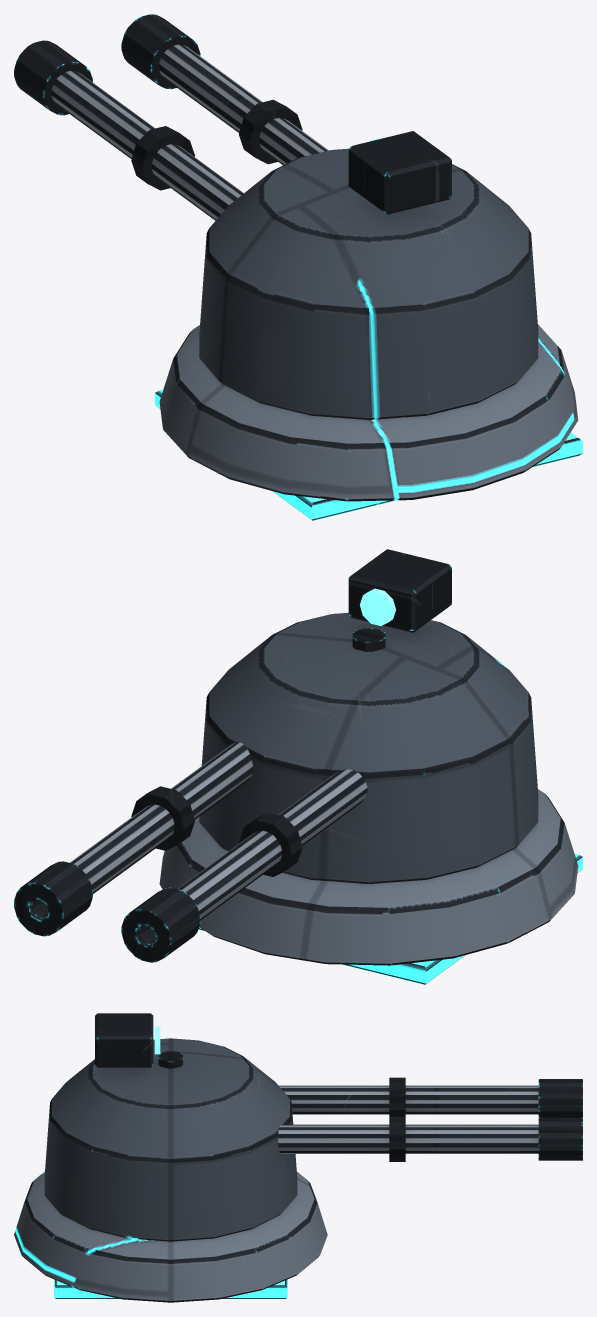
The model's file is torreta_auto_t3.fbx.
3 renders of one model, top to bottom at view 1: azimuth 30°, elevation 25°; view 2: azimuth 150°, elevation 25°; view 3: azimuth 270°, elevation 25°, orthographic. The views are drawn at different scales.
Visible parts, largest first — view 1: torreta_auto_t3_cabeza, torreta_auto_t3.001; view 2: torreta_auto_t3_cabeza, torreta_auto_t3.001, torreta_auto_t3_cabeza_neon2; view 3: torreta_auto_t3_cabeza, torreta_auto_t3.001.
Part boxes in pixels (x1,y1,x2,y2): torreta_auto_t3_cabeza: (14,14,538,419); torreta_auto_t3.001: (155,324,582,520); torreta_auto_t3_cabeza: (14,549,538,962); torreta_auto_t3.001: (159,789,582,984); torreta_auto_t3_cabeza_neon2: (360,588,395,625); torreta_auto_t3_cabeza: (44,1013,582,1241); torreta_auto_t3.001: (14,1171,327,1302).
Bounding box in the file's own units: 2.69 × 2.2 × 4.87.
